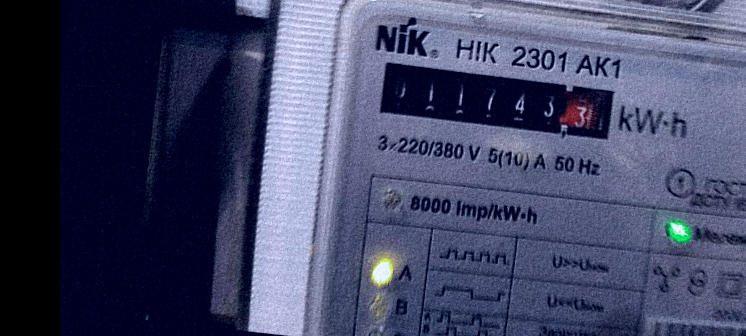0: (393, 72, 410, 101)
1: (453, 78, 468, 108), (425, 75, 438, 103)
3: (542, 91, 559, 120), (572, 104, 588, 130)
4: (512, 88, 529, 116)
7: (482, 82, 500, 111)
screen: (368, 50, 628, 152)
